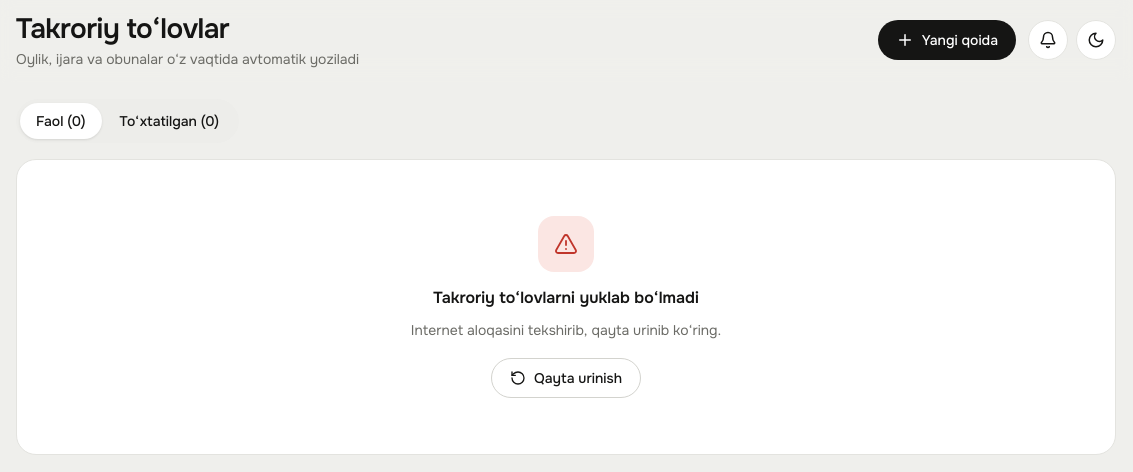
RecurringPage › shows the error and recovers on retry
Click the button "Qayta urinish" at (566, 378), box [491, 358, 641, 398]
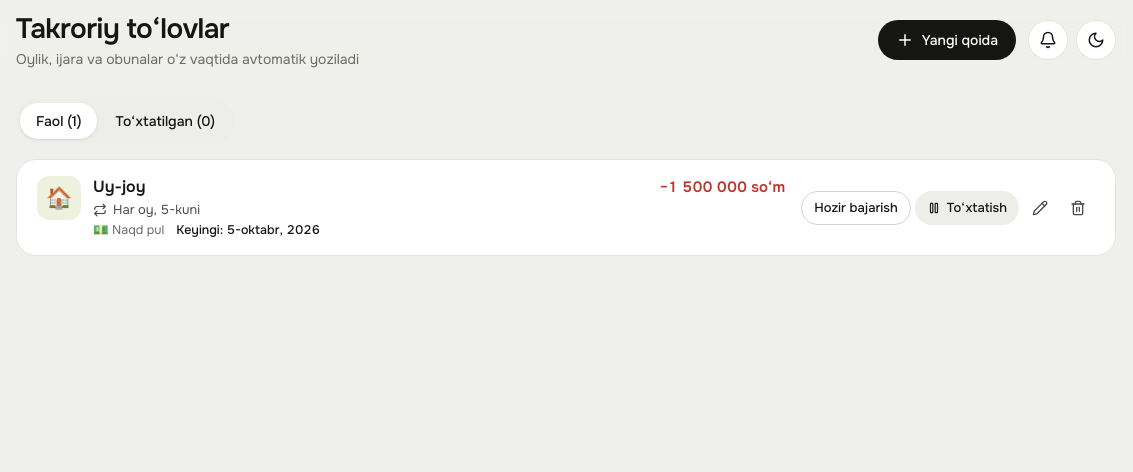
Expected: the heading "Uy-joy" is shown, [93, 176, 145, 197]
